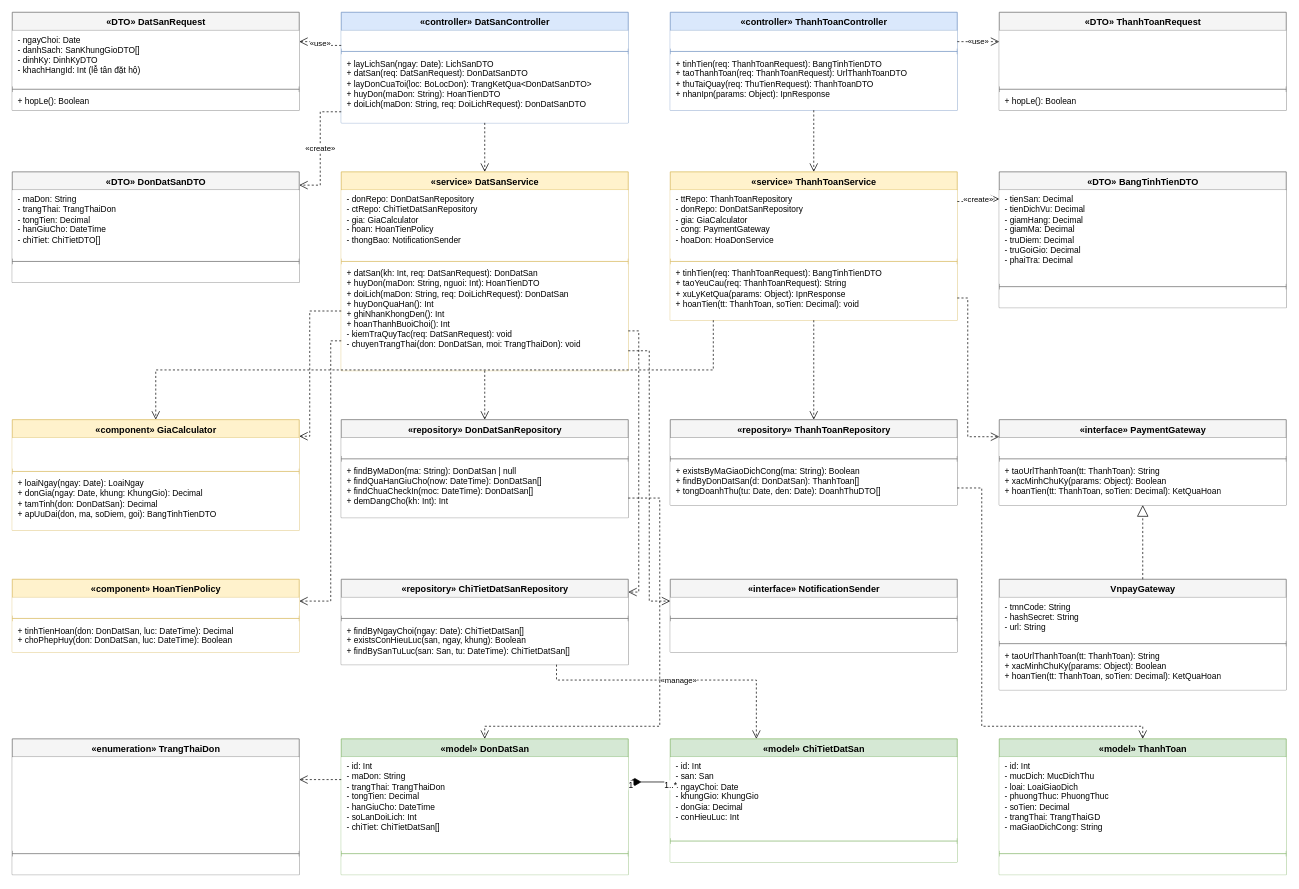
Some shapes in this 1299 by 889 pixel diagram are drawn without their labels. Each missing label, with the centre of its shape:
+ choPhepChuyen(cu, moi): Boolean: point (155, 865)
+ gui(nhan: String, kenh: Kenh, noiDung: String): void + guiLaiThatBai(): Int: point (813, 636)
+ tinhPhaiTra(): Decimal: point (1142, 298)
+ tuEntity(d: DonDatSan): DonDatSanDTO: point (155, 273)
- khungGiaRepo: KhungGiaRepository - ngayLeRepo: NgayLeRepository: point (155, 453)
- maDon: String - maGiamGia: String - soDiem: Int - goiGioChoiId: Int: point (1142, 58)
CHO_THANH_TOAN DA_XAC_NHAN DANG_SU_DUNG DA_HOAN_THANH DA_HUY HET_HAN KHONG_DEN: point (155, 803)
